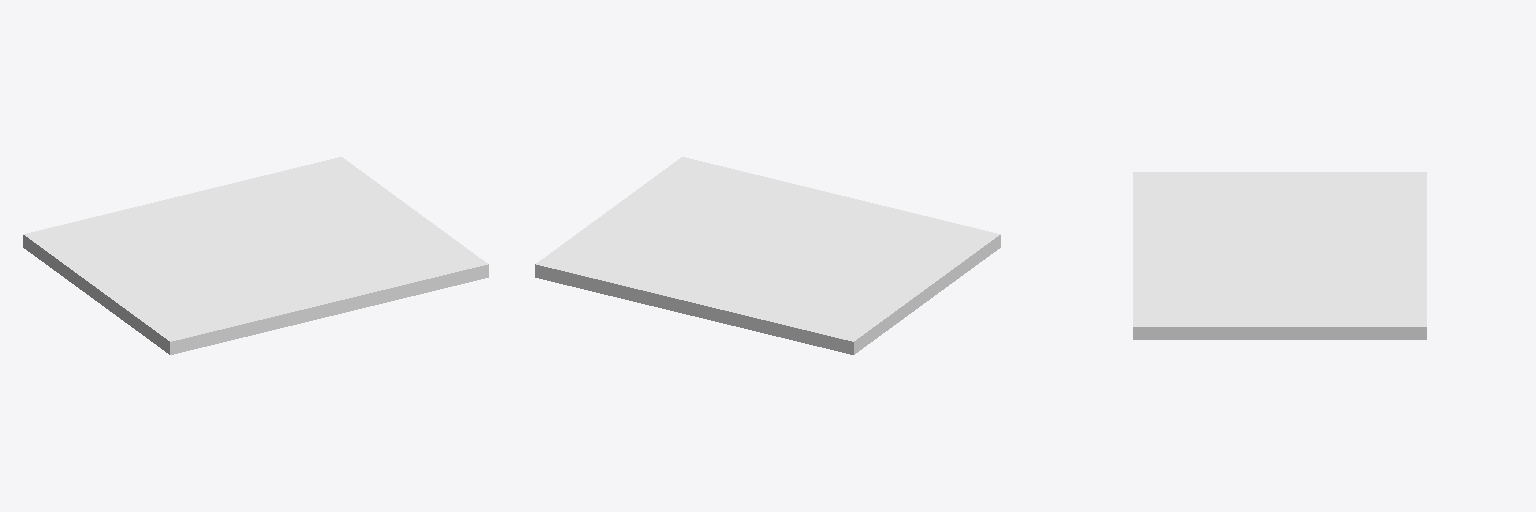
File: sueloRojoNaranja.obj
3 renders of one model, left to right at view 1: azimuth 30°, elevation 25°; view 2: azimuth 150°, elevation 25°; view 3: azimuth 270°, elevation 25°, orthographic.
Parts seen in each view (by area): view 1: object 1; view 2: object 1; view 3: object 1.
Boxes of the visible parts, box(x1,y1,x2,y2) form: object 1: box(23, 157, 488, 354); object 1: box(535, 157, 1000, 354); object 1: box(1133, 172, 1426, 339).
Bounding box in the file's own units: 2.5 × 0.1 × 2.